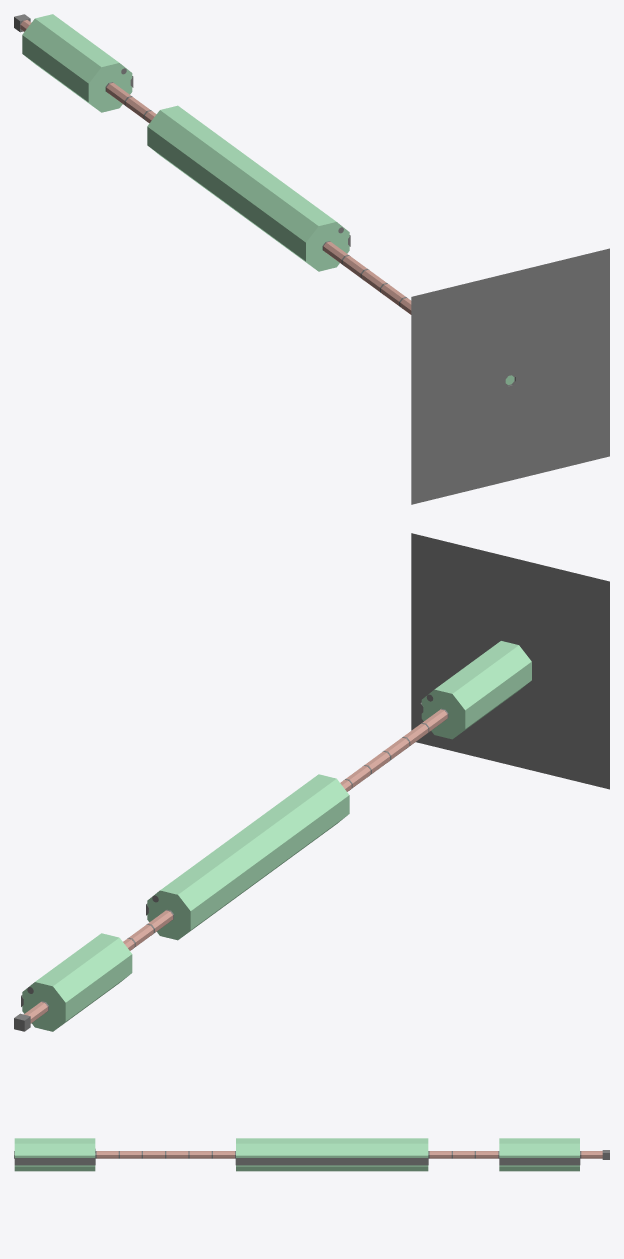
The model's file is LVL1.fbx.
3 views of the same model, one above another, from view 1: azimuth 30°, elevation 25°; view 2: azimuth 150°, elevation 25°; view 3: azimuth 270°, elevation 25° (orthographic). The views are drawn at different scales.
Parts seen in each view (by area): view 1: Plane, BigCorridor.001, BigCorridor; view 2: Plane, BigCorridor.001, BigCorridor.002, BigCorridor; view 3: BigCorridor.001, BigCorridor.002, BigCorridor.
Boxes of the visible parts, x1,y1,x2,y2 form: Plane: (411,248,609,504); BigCorridor.001: (147,105,350,271); BigCorridor: (22,14,133,112); Plane: (411,533,609,789); BigCorridor.001: (146,774,349,940); BigCorridor.002: (420,641,531,739); BigCorridor: (21,933,132,1031); BigCorridor.001: (235,1138,428,1171); BigCorridor.002: (14,1138,95,1171); BigCorridor: (499,1138,580,1171).
Bounding box in the file's own units: 184 × 790 × 184.
